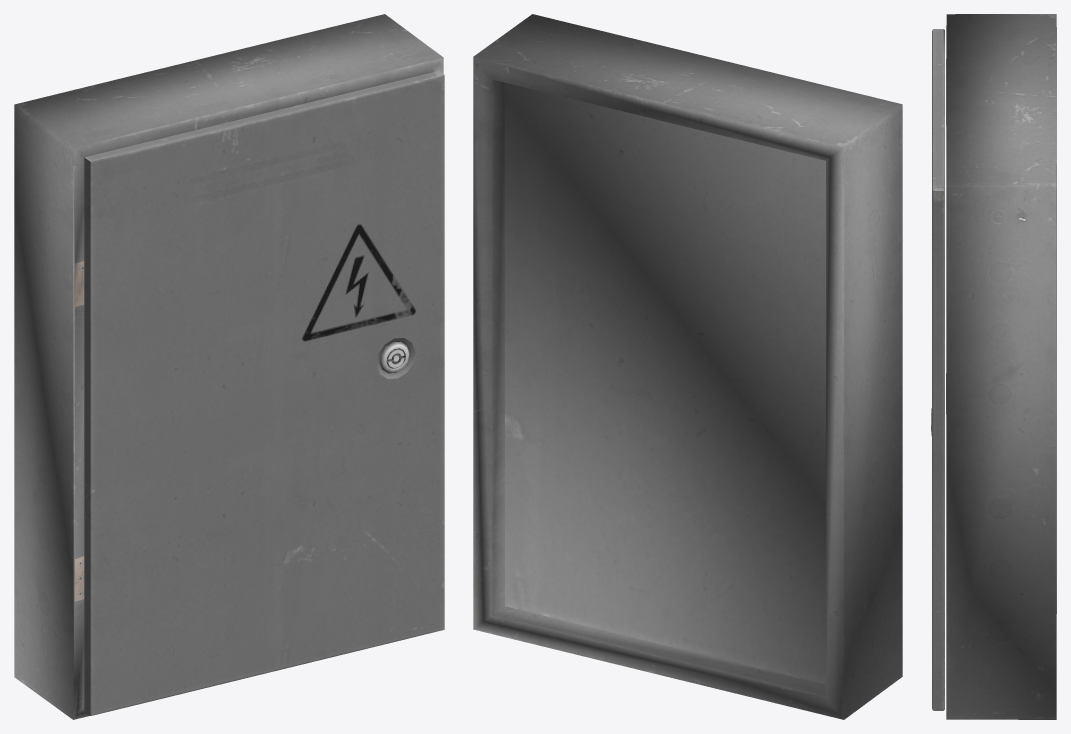
File: powerboxsimple.fbx
The picture shows the model from 3 angles, left to right: view 1: azimuth 30°, elevation 25°; view 2: azimuth 150°, elevation 25°; view 3: azimuth 270°, elevation 25°; orthographic projection. The views are drawn at different scales.
Parts seen in each view (by area): view 1: power_box_01_door, power_box_01_box; view 2: power_box_01_box; view 3: power_box_01_box, power_box_01_door.
Part boxes in pixels (x1,y1,x2,y2): power_box_01_door: (84, 71, 444, 715); power_box_01_box: (14, 14, 443, 719); power_box_01_box: (473, 14, 902, 719); power_box_01_box: (946, 14, 1056, 719); power_box_01_door: (931, 29, 944, 710).
Bounding box in the file's own units: 34.51 × 50.27 × 10.68.
